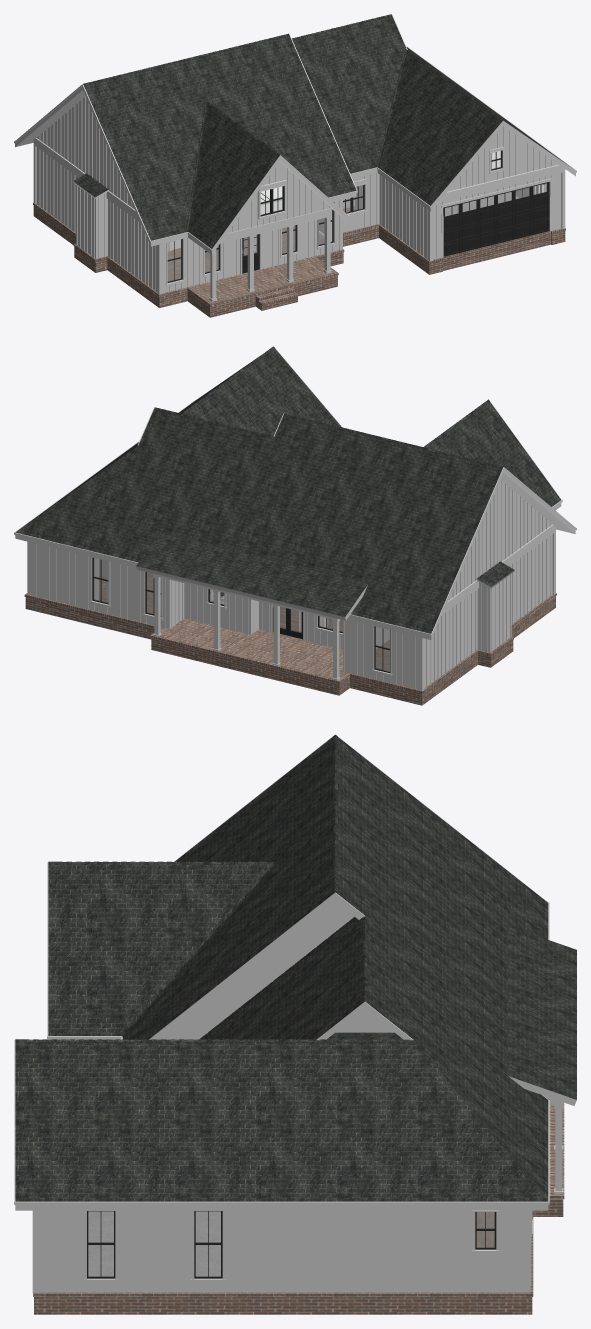
The model's file is house-farmhouse-garage.glb.
The picture shows the model from 3 angles, top to bottom: view 1: azimuth 30°, elevation 25°; view 2: azimuth 150°, elevation 25°; view 3: azimuth 270°, elevation 25°; orthographic projection. The views are drawn at different scales.
Parts seen in each view (by area): view 1: US-Home-Roof_43, US-Home-Main_Walls_66, US-Home-Main_Foundation_67, US-Home-Wooden_Struts_65, US-Home-Support_Beams_45, US-Home-Door_Garage_17, US-Home-Roofing_Tiles_Trim_42, US-Home-Window_Single_09_61, US-Home-Window_Double_Small_02_52, US-Home-Door_Front_7, US-Home-Window_Single_06_58, US-Home-Window_Double_Small_01_50; view 2: US-Home-Roof_43, US-Home-Main_Walls_66, US-Home-Main_Foundation_67, US-Home-Wooden_Struts_65, US-Home-Support_Beams_45, US-Home-Roofing_Tiles_Trim_42, US-Home-Window_Single_03_55, US-Home-Window_Single_01_53, US-Home-Door_Double_01_5, US-Home-Window_Single_02_54; view 3: US-Home-Roof_43, US-Home-Main_Walls_66, US-Home-Main_Foundation_67, US-Home-Wooden_Struts_65, US-Home-Roofing_Tiles_Trim_42, US-Home-Window_Single_05_57, US-Home-Window_Single_04_56, US-Home-Support_Beams_45, US-Home-Window_Small_02_63.
Part boxes in pixels (bbox=[...]): US-Home-Roof_43: bbox=[14, 14, 576, 254]; US-Home-Main_Walls_66: bbox=[36, 97, 561, 292]; US-Home-Main_Foundation_67: bbox=[33, 192, 565, 317]; US-Home-Wooden_Struts_65: bbox=[39, 96, 558, 291]; US-Home-Support_Beams_45: bbox=[33, 138, 565, 301]; US-Home-Door_Garage_17: bbox=[443, 182, 549, 256]; US-Home-Roofing_Tiles_Trim_42: bbox=[83, 14, 503, 231]; US-Home-Window_Single_09_61: bbox=[165, 238, 184, 285]; US-Home-Window_Double_Small_02_52: bbox=[258, 180, 286, 219]; US-Home-Door_Front_7: bbox=[242, 234, 259, 273]; US-Home-Window_Single_06_58: bbox=[316, 201, 336, 249]; US-Home-Window_Double_Small_01_50: bbox=[343, 179, 366, 215]; US-Home-Roof_43: bbox=[14, 346, 576, 639]; US-Home-Main_Walls_66: bbox=[27, 480, 552, 689]; US-Home-Main_Foundation_67: bbox=[24, 572, 556, 705]; US-Home-Wooden_Struts_65: bbox=[36, 480, 550, 688]; US-Home-Support_Beams_45: bbox=[153, 524, 555, 691]; US-Home-Roofing_Tiles_Trim_42: bbox=[154, 346, 503, 468]; US-Home-Window_Single_03_55: bbox=[89, 557, 110, 607]; US-Home-Window_Single_01_53: bbox=[371, 626, 392, 676]; US-Home-Door_Double_01_5: bbox=[272, 607, 302, 639]; US-Home-Window_Single_02_54: bbox=[142, 571, 163, 620]; US-Home-Roof_43: bbox=[14, 734, 576, 1210]; US-Home-Main_Walls_66: bbox=[39, 901, 530, 1292]; US-Home-Main_Foundation_67: bbox=[33, 1102, 564, 1314]; US-Home-Wooden_Struts_65: bbox=[46, 903, 531, 1292]; US-Home-Roofing_Tiles_Trim_42: bbox=[15, 735, 408, 1042]; US-Home-Window_Single_05_57: bbox=[84, 1210, 117, 1282]; US-Home-Window_Single_04_56: bbox=[191, 1210, 225, 1282]; US-Home-Support_Beams_45: bbox=[32, 1096, 563, 1293]; US-Home-Window_Small_02_63: bbox=[472, 1210, 498, 1253].
Bounding box in the file's own units: 19.5 × 8.64 × 15.47.
Materials: 19 (13 with a texture image).
